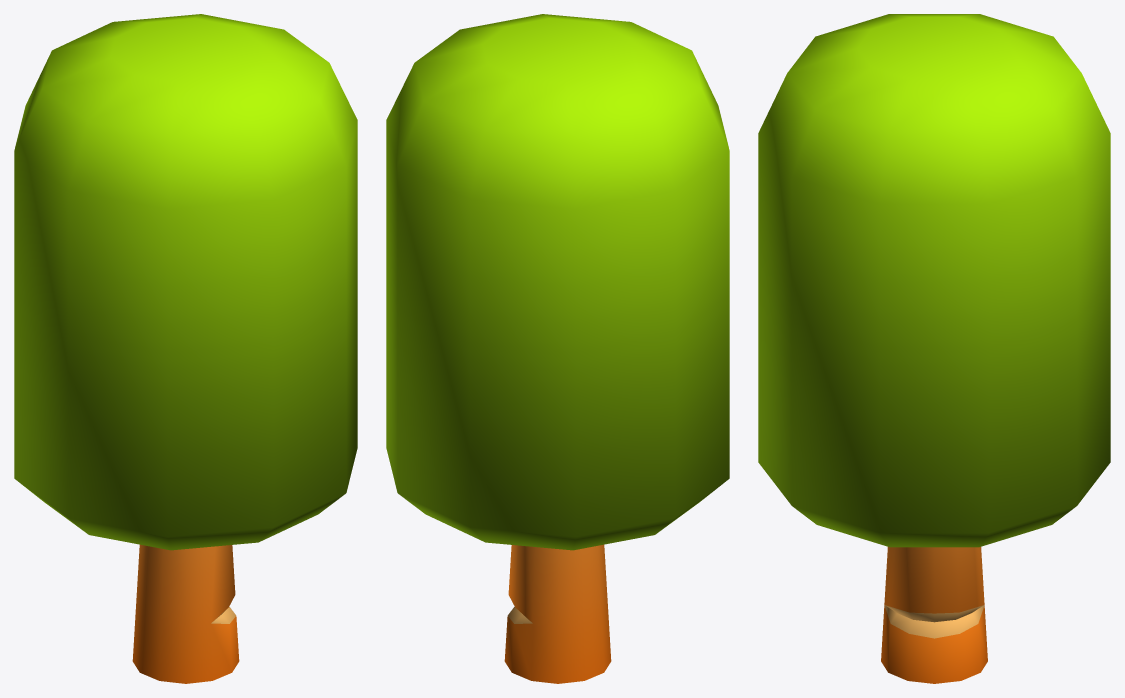
Rendered from Plant_A_Step_02.fbx.
3 renders of one model, left to right at view 1: azimuth 30°, elevation 25°; view 2: azimuth 150°, elevation 25°; view 3: azimuth 270°, elevation 25°, orthographic.
Visible parts, largest first — view 1: Plant_A_Step_02; view 2: Plant_A_Step_02; view 3: Plant_A_Step_02.
Boxes of the visible parts, left/top/right/bottom form: Plant_A_Step_02: left=14, top=14, right=357, bottom=683; Plant_A_Step_02: left=386, top=14, right=729, bottom=683; Plant_A_Step_02: left=758, top=14, right=1110, bottom=683.
Bounding box in the file's own units: 406 × 818 × 426.
